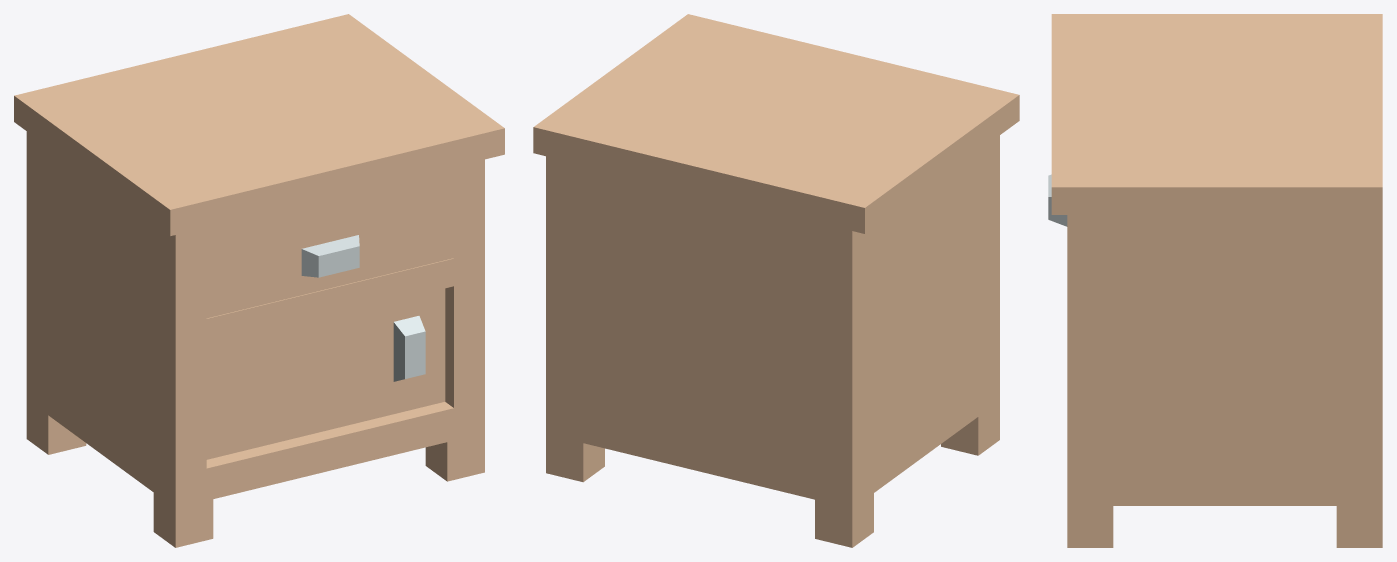
Rendered from cabinetBedDrawer.glb.
The picture shows the model from 3 angles, left to right: view 1: azimuth 30°, elevation 25°; view 2: azimuth 150°, elevation 25°; view 3: azimuth 270°, elevation 25°; orthographic projection. The views are drawn at different scales.
Visible parts, largest first — view 1: cabinetBedDrawer; view 2: cabinetBedDrawer; view 3: cabinetBedDrawer.
Boxes of the visible parts, x1=… form: cabinetBedDrawer: x1=14, y1=14, x2=504, y2=547; cabinetBedDrawer: x1=533, y1=14, x2=1019, y2=547; cabinetBedDrawer: x1=1048, y1=14, x2=1382, y2=547.
Bounding box in the file's own units: 0.2661 × 0.2632 × 0.2173.
